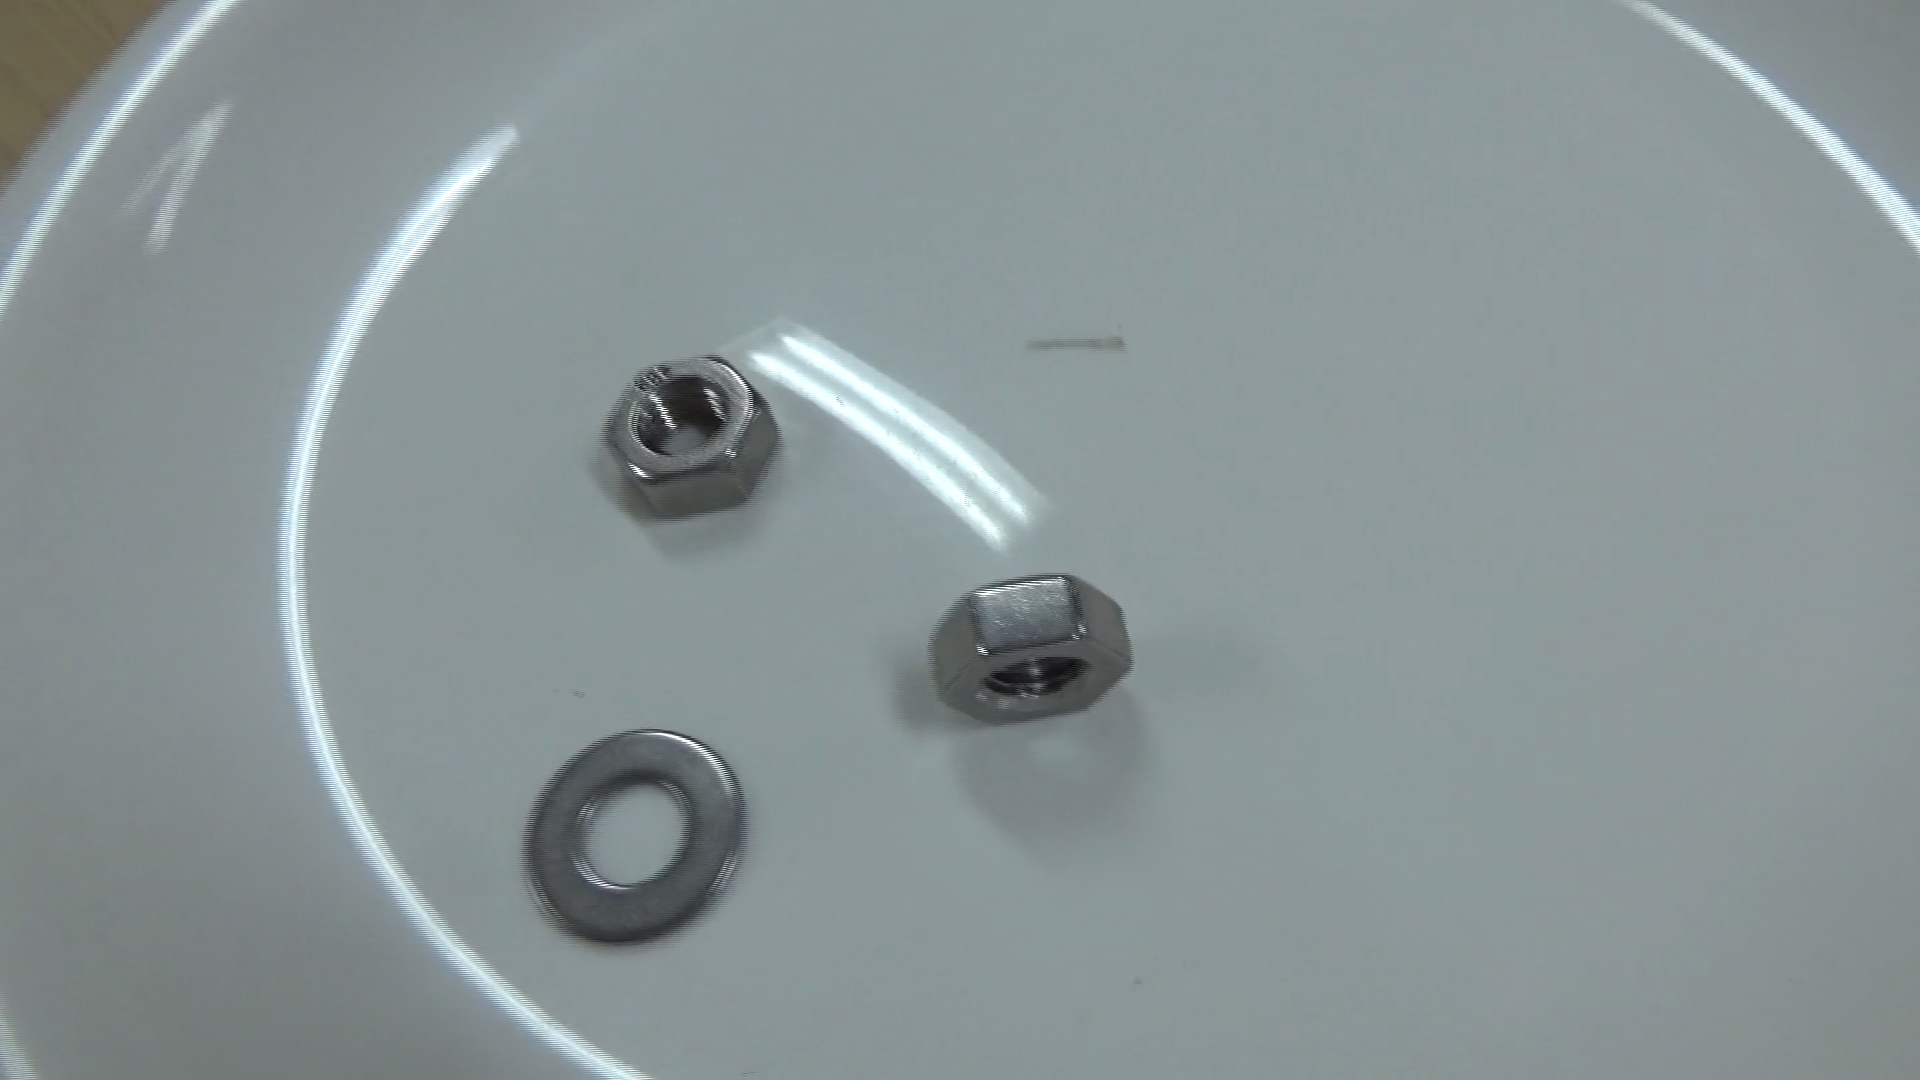nut: (592, 334, 789, 530), (914, 567, 1149, 727)
washer: (517, 703, 756, 953)
